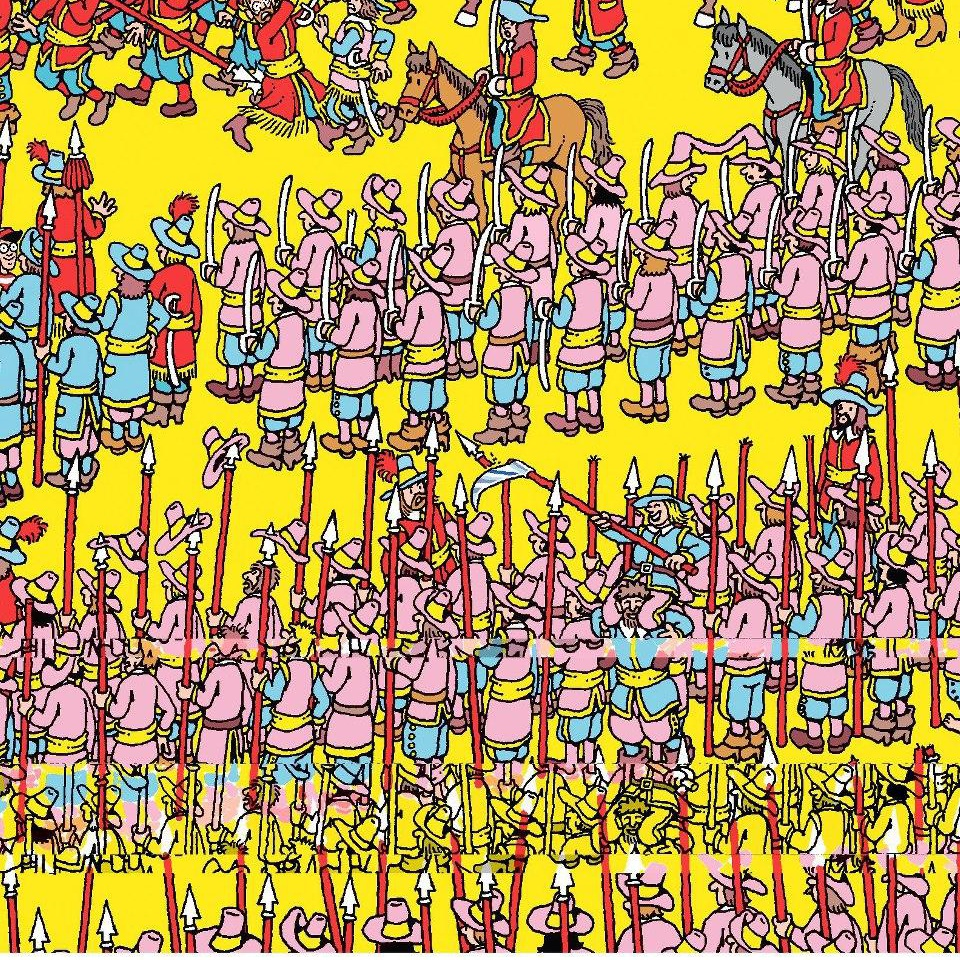waldo: (0, 224, 19, 286)
